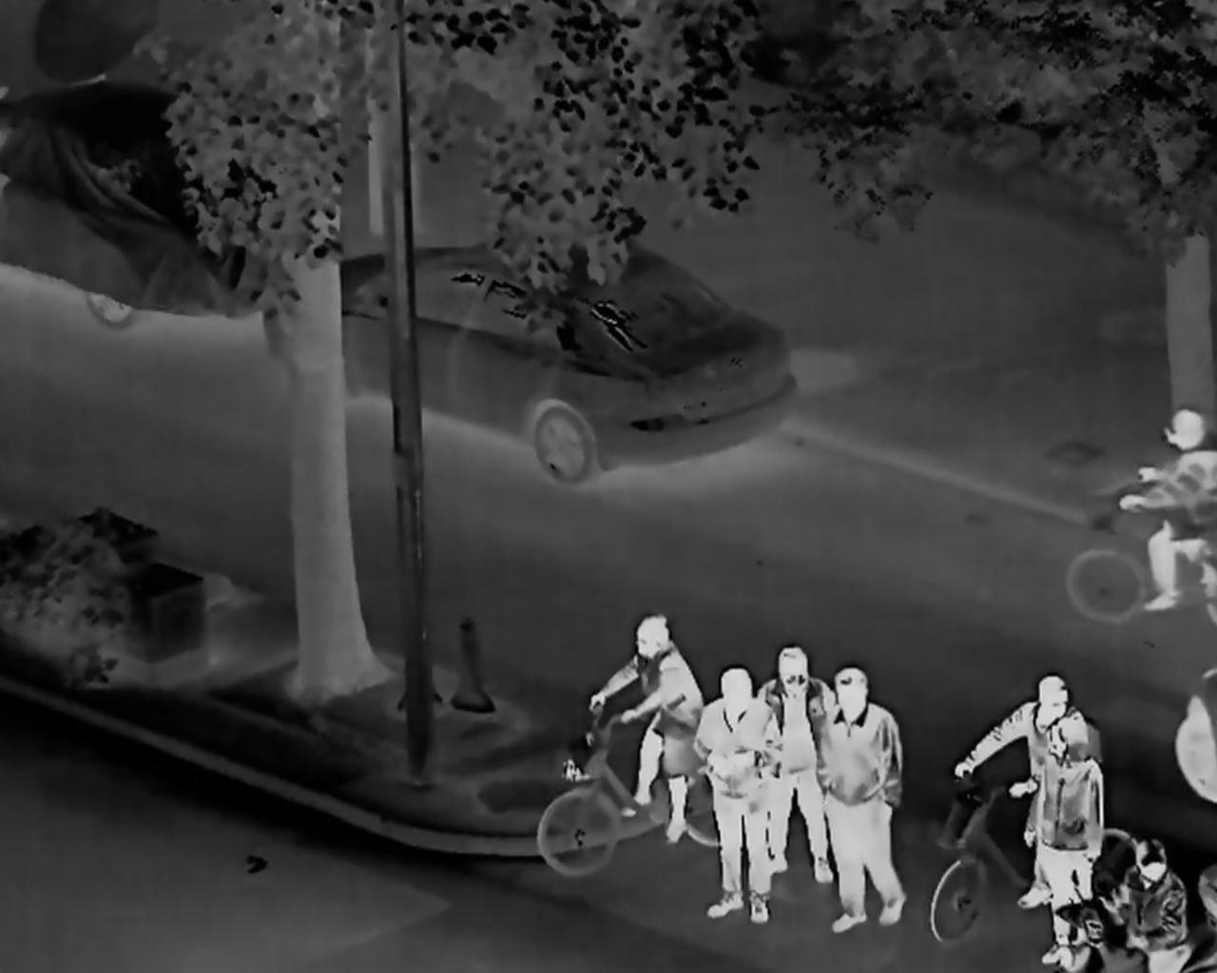person: (953, 677, 1095, 909), (586, 613, 704, 843), (820, 668, 907, 931), (695, 666, 778, 925), (1117, 409, 1217, 612), (755, 647, 835, 882), (1033, 718, 1105, 967), (1106, 831, 1190, 973)
